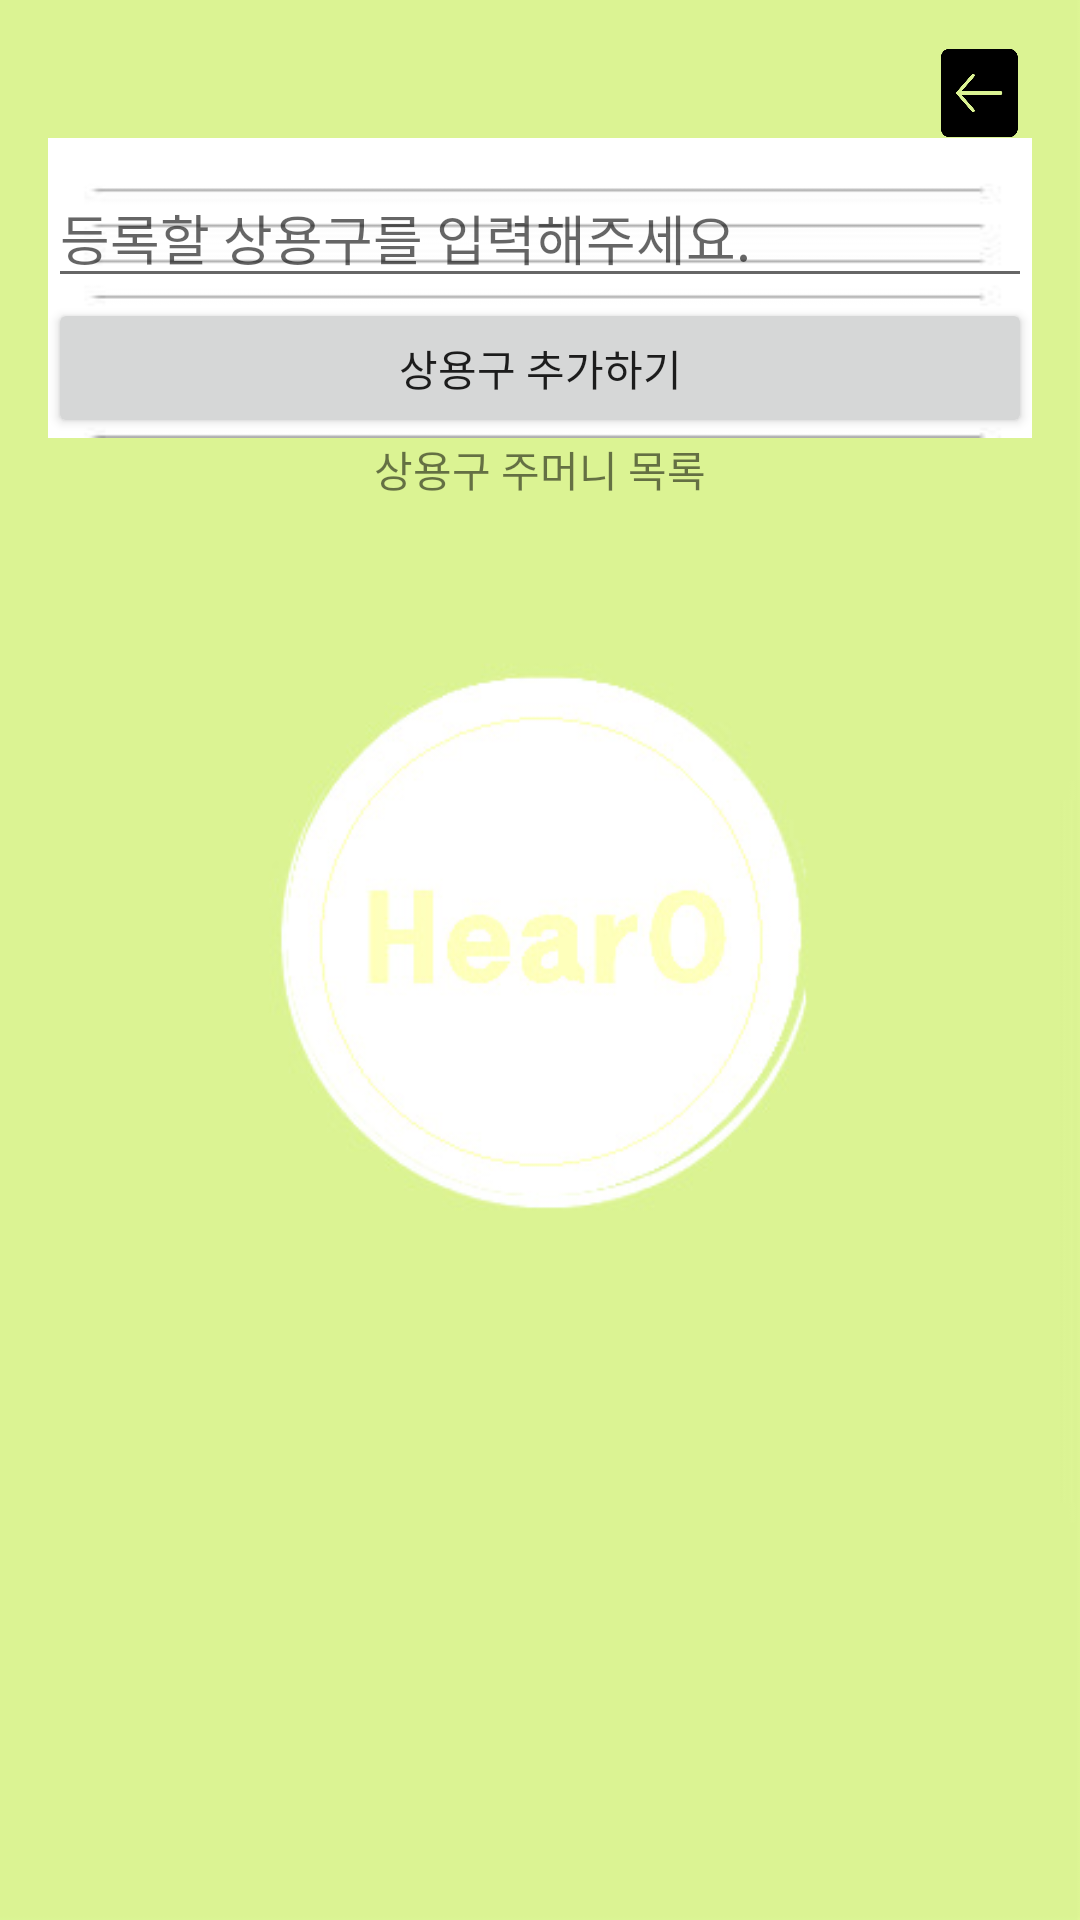

Point at icon controls on the screen. Image size 1080w x 1920h, points as point (x, y).
backimgj: point (979, 93)
